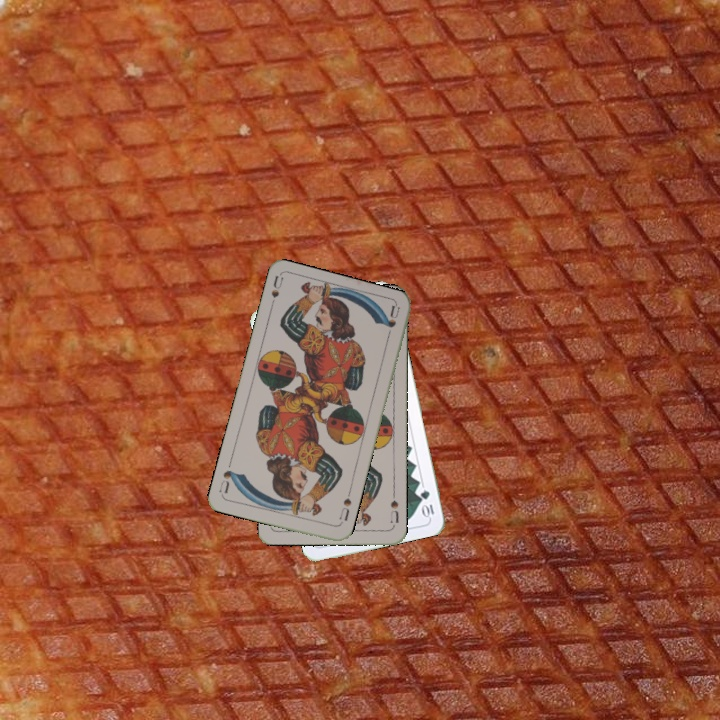G10: (416, 486, 437, 520)
SU: (266, 273, 286, 314), (386, 488, 401, 526), (335, 494, 354, 523)
